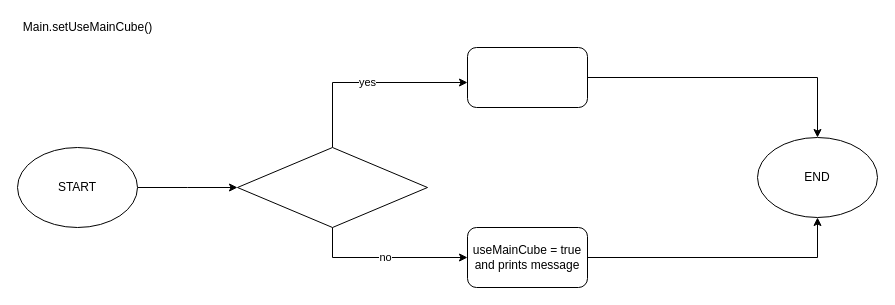
The diagram is 895 pixels wide and 305 high, and some of its shapes have lost their labels. The centre of each missing label's shape, as x and y in pixels:
"prints that is already true" belongs at pixel 527 77.
"useMainCube == true" belongs at pixel 332 187.
